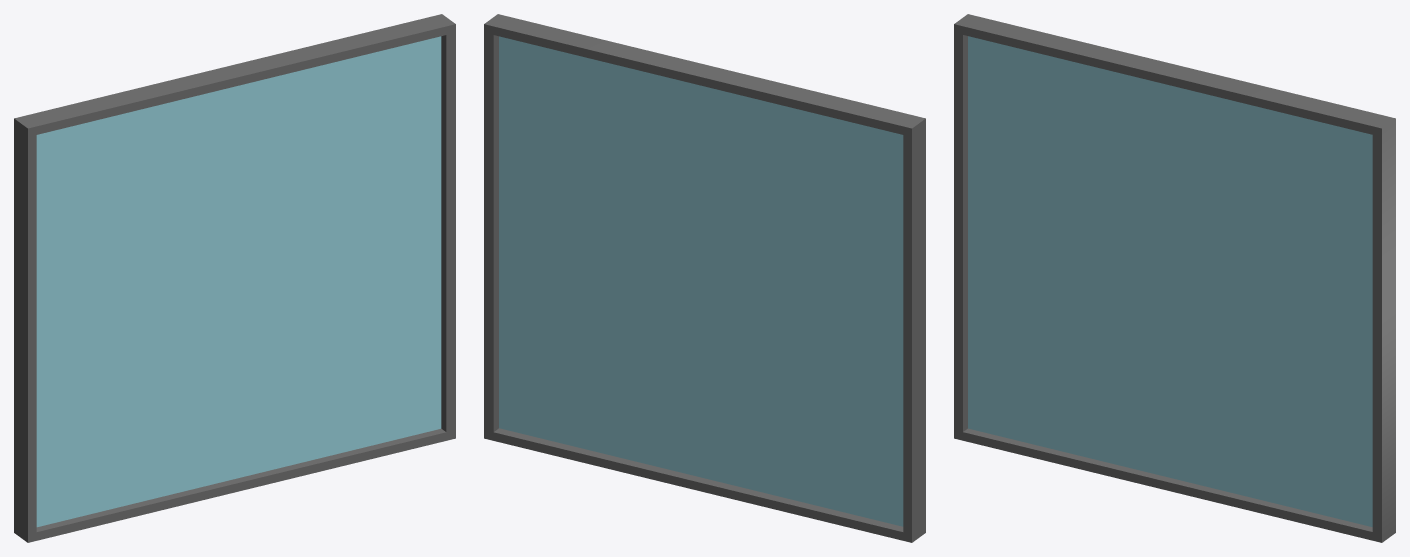
File: Wall_Glass.fbx
3 views of the same model, side by side, from view 1: azimuth 30°, elevation 25°; view 2: azimuth 150°, elevation 25°; view 3: azimuth 330°, elevation 25° (orthographic).
Parts seen in each view (by area): view 1: Wall_Glass; view 2: Wall_Glass; view 3: Wall_Glass.
Part boxes in pixels (x1=…): Wall_Glass: x1=14, y1=14, x2=455, y2=542; Wall_Glass: x1=484, y1=14, x2=925, y2=542; Wall_Glass: x1=954, y1=14, x2=1395, y2=542.
Size of the model in its own units: 301 by 279 by 16.89.
